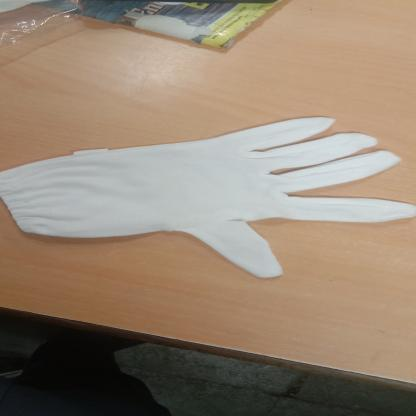gloved_hand: (1, 112, 416, 280)
